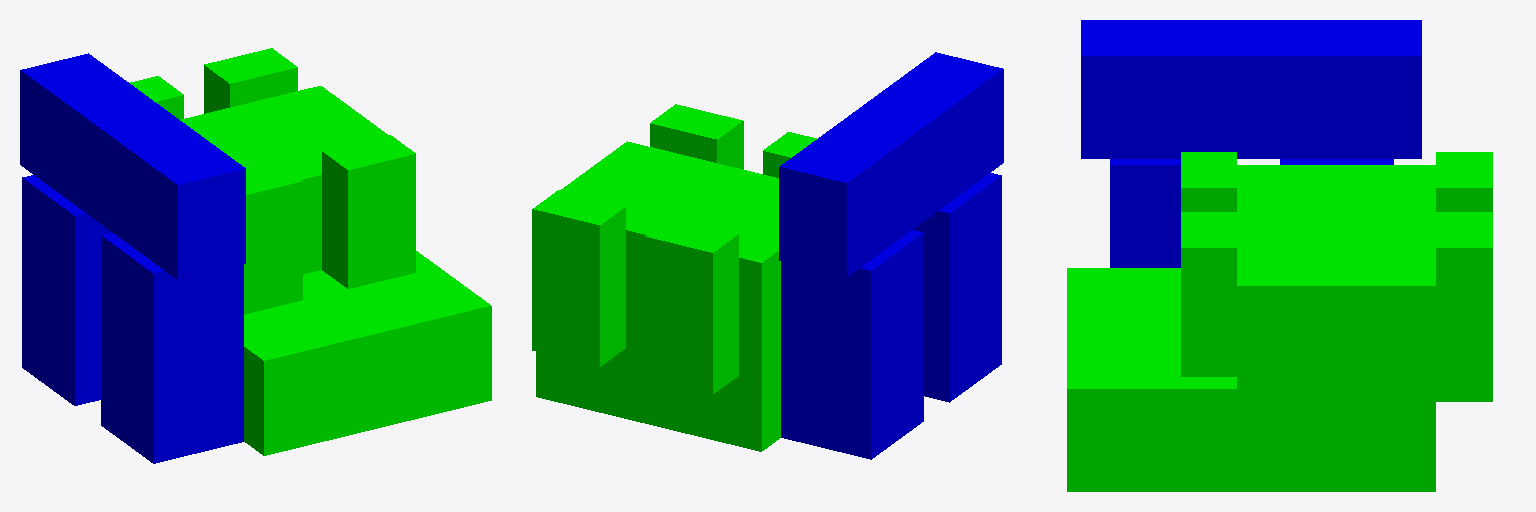
robot.urdf — robot:
<robot name = "robot">
    <link name="root">
        <inertial>
            <origin xyz="0.0 0.0 1.5" rpy="0 0 0"/>
            <mass value="1" />
            <inertia ixx="100" ixy="0" ixz="0" iyy="100" iyz="0" izz="100" />
        </inertial>
        <visual>
            <origin xyz="0.0 0.0 1.5" rpy="0 0 0"/>
            <geometry>
                <box size="0 0 0.0001" />
            </geometry>
            <material name="Green">
                <color rgba="0 1.0 0.0 1.0"/>
            </material>
        </visual>
        <collision>
            <origin xyz="0.0 0.0 1.5" rpy="0 0 0"/>
            <geometry>
                <box size="0 0 0.0001" />
            </geometry>
        </collision>
    </link>
    <joint name="root_000" type="revolute">
       <parent link="root"/>
       <child  link="000"/>
       <origin rpy="0 0 0" xyz="0.0 0.0 1.5" />
     <axis xyz="1 0 0"/>
       <limit effort="0.0" lower="-3.14159" upper="3.14159" velocity="0.0"/>
    </joint>
    <link name="000">
        <inertial>
            <origin xyz="0.0 0.3 0.0" rpy="0 0 0"/>
            <mass value="1" />
            <inertia ixx="100" ixy="0" ixz="0" iyy="100" iyz="0" izz="100" />
        </inertial>
        <visual>
            <origin xyz="0.0 0.3 0.0" rpy="0 0 0"/>
            <geometry>
                <box size="0.3 0.6 0.4" />
            </geometry>
            <material name="Blue">
                <color rgba="0 0.0 1.0 1.0"/>
            </material>
        </visual>
        <collision>
            <origin xyz="0.0 0.3 0.0" rpy="0 0 0"/>
            <geometry>
                <box size="0.3 0.6 0.4" />
            </geometry>
        </collision>
    </link>
    <joint name="000_010" type="revolute">
       <parent link="000"/>
       <child  link="010"/>
       <origin rpy="0 0 0" xyz="0.0 0.6 -0.0" />
     <axis xyz="0 1 0"/>
       <limit effort="0.0" lower="-3.14159" upper="3.14159" velocity="0.0"/>
    </joint>
    <link name="010">
        <inertial>
            <origin xyz="0.0 0.3 -0.0" rpy="0 0 0"/>
            <mass value="1" />
            <inertia ixx="100" ixy="0" ixz="0" iyy="100" iyz="0" izz="100" />
        </inertial>
        <visual>
            <origin xyz="0.0 0.3 -0.0" rpy="0 0 0"/>
            <geometry>
                <box size="0.3 0.6 0.4" />
            </geometry>
            <material name="Blue">
                <color rgba="0 0.0 1.0 1.0"/>
            </material>
        </visual>
        <collision>
            <origin xyz="0.0 0.3 -0.0" rpy="0 0 0"/>
            <geometry>
                <box size="0.3 0.6 0.4" />
            </geometry>
        </collision>
    </link>
    <joint name="010_010-100" type="revolute">
       <parent link="010"/>
       <child  link="010-100"/>
       <origin rpy="0 0 0" xyz="0.0 0.3 -0.2" />
     <axis xyz="0 0 1"/>
       <limit effort="0.0" lower="-3.14159" upper="3.14159" velocity="0.0"/>
    </joint>
    <link name="010-100">
        <inertial>
            <origin xyz="0.0 0.0 -0.2" rpy="0 0 0"/>
            <mass value="1" />
            <inertia ixx="100" ixy="0" ixz="0" iyy="100" iyz="0" izz="100" />
        </inertial>
        <visual>
            <origin xyz="0.0 0.0 -0.2" rpy="0 0 0"/>
            <geometry>
                <box size="0.4 0.4 0.4" />
            </geometry>
            <material name="Blue">
                <color rgba="0 0.0 1.0 1.0"/>
            </material>
        </visual>
        <collision>
            <origin xyz="0.0 0.0 -0.2" rpy="0 0 0"/>
            <geometry>
                <box size="0.4 0.4 0.4" />
            </geometry>
        </collision>
    </link>
    <joint name="010-100_010-110" type="revolute">
       <parent link="010-100"/>
       <child  link="010-110"/>
       <origin rpy="0 0 0" xyz="0.0 0.0 -0.4" />
     <axis xyz="0 0 1"/>
       <limit effort="0.0" lower="-3.14159" upper="3.14159" velocity="0.0"/>
    </joint>
    <link name="010-110">
        <inertial>
            <origin xyz="0.0 0.0 -0.2" rpy="0 0 0"/>
            <mass value="1" />
            <inertia ixx="100" ixy="0" ixz="0" iyy="100" iyz="0" izz="100" />
        </inertial>
        <visual>
            <origin xyz="0.0 0.0 -0.2" rpy="0 0 0"/>
            <geometry>
                <box size="0.4 0.4 0.4" />
            </geometry>
            <material name="Blue">
                <color rgba="0 0.0 1.0 1.0"/>
            </material>
        </visual>
        <collision>
            <origin xyz="0.0 0.0 -0.2" rpy="0 0 0"/>
            <geometry>
                <box size="0.4 0.4 0.4" />
            </geometry>
        </collision>
    </link>
    <joint name="010-110_010-110-200" type="revolute">
       <parent link="010-110"/>
       <child  link="010-110-200"/>
       <origin rpy="0 0 0" xyz="0.2 0.0 -0.2" />
     <axis xyz="1 0 0"/>
       <limit effort="0.0" lower="-3.14159" upper="3.14159" velocity="0.0"/>
    </joint>
    <link name="010-110-200">
        <inertial>
            <origin xyz="0.25 0.0 -0.0" rpy="0 0 0"/>
            <mass value="1" />
            <inertia ixx="100" ixy="0" ixz="0" iyy="100" iyz="0" izz="100" />
        </inertial>
        <visual>
            <origin xyz="0.25 0.0 -0.0" rpy="0 0 0"/>
            <geometry>
                <box size="0.5 0.7 0.4" />
            </geometry>
            <material name="Green">
                <color rgba="0 1.0 0.0 1.0"/>
            </material>
        </visual>
        <collision>
            <origin xyz="0.25 0.0 -0.0" rpy="0 0 0"/>
            <geometry>
                <box size="0.5 0.7 0.4" />
            </geometry>
        </collision>
    </link>
    <joint name="010-110-200_010-110-210" type="revolute">
       <parent link="010-110-200"/>
       <child  link="010-110-210"/>
       <origin rpy="0 0 0" xyz="0.5 0.0 -0.0" />
     <axis xyz="1 0 0"/>
       <limit effort="0.0" lower="-3.14159" upper="3.14159" velocity="0.0"/>
    </joint>
    <link name="010-110-210">
        <inertial>
            <origin xyz="0.25 0.0 -0.0" rpy="0 0 0"/>
            <mass value="1" />
            <inertia ixx="100" ixy="0" ixz="0" iyy="100" iyz="0" izz="100" />
        </inertial>
        <visual>
            <origin xyz="0.25 0.0 -0.0" rpy="0 0 0"/>
            <geometry>
                <box size="0.5 0.7 0.4" />
            </geometry>
            <material name="Green">
                <color rgba="0 1.0 0.0 1.0"/>
            </material>
        </visual>
        <collision>
            <origin xyz="0.25 0.0 -0.0" rpy="0 0 0"/>
            <geometry>
                <box size="0.5 0.7 0.4" />
            </geometry>
        </collision>
    </link>
    <joint name="010-100_010-100-200" type="revolute">
       <parent link="010-100"/>
       <child  link="010-100-200"/>
       <origin rpy="0 0 0" xyz="0.2 0.0 -0.2" />
     <axis xyz="1 0 0"/>
       <limit effort="0.0" lower="-3.14159" upper="3.14159" velocity="0.0"/>
    </joint>
    <link name="010-100-200">
        <inertial>
            <origin xyz="0.25 0.0 -0.0" rpy="0 0 0"/>
            <mass value="1" />
            <inertia ixx="100" ixy="0" ixz="0" iyy="100" iyz="0" izz="100" />
        </inertial>
        <visual>
            <origin xyz="0.25 0.0 -0.0" rpy="0 0 0"/>
            <geometry>
                <box size="0.5 0.7 0.4" />
            </geometry>
            <material name="Green">
                <color rgba="0 1.0 0.0 1.0"/>
            </material>
        </visual>
        <collision>
            <origin xyz="0.25 0.0 -0.0" rpy="0 0 0"/>
            <geometry>
                <box size="0.5 0.7 0.4" />
            </geometry>
        </collision>
    </link>
    <joint name="010-100-200_010-100-210" type="revolute">
       <parent link="010-100-200"/>
       <child  link="010-100-210"/>
       <origin rpy="0 0 0" xyz="0.5 0.0 -0.0" />
     <axis xyz="1 0 0"/>
       <limit effort="0.0" lower="-3.14159" upper="3.14159" velocity="0.0"/>
    </joint>
    <link name="010-100-210">
        <inertial>
            <origin xyz="0.25 0.0 -0.0" rpy="0 0 0"/>
            <mass value="1" />
            <inertia ixx="100" ixy="0" ixz="0" iyy="100" iyz="0" izz="100" />
        </inertial>
        <visual>
            <origin xyz="0.25 0.0 -0.0" rpy="0 0 0"/>
            <geometry>
                <box size="0.5 0.7 0.4" />
            </geometry>
            <material name="Green">
                <color rgba="0 1.0 0.0 1.0"/>
            </material>
        </visual>
        <collision>
            <origin xyz="0.25 0.0 -0.0" rpy="0 0 0"/>
            <geometry>
                <box size="0.5 0.7 0.4" />
            </geometry>
        </collision>
    </link>
    <joint name="010-100-210_010-100-210-300" type="revolute">
       <parent link="010-100-210"/>
       <child  link="010-100-210-300"/>
       <origin rpy="0 0 0" xyz="0.25 0.35 -0.0" />
     <axis xyz="0 1 0"/>
       <limit effort="0.0" lower="-3.14159" upper="3.14159" velocity="0.0"/>
    </joint>
    <link name="010-100-210-300">
        <inertial>
            <origin xyz="0.0 0.05 -0.0" rpy="0 0 0"/>
            <mass value="1" />
            <inertia ixx="100" ixy="0" ixz="0" iyy="100" iyz="0" izz="100" />
        </inertial>
        <visual>
            <origin xyz="0.0 0.05 -0.0" rpy="0 0 0"/>
            <geometry>
                <box size="0.3 0.1 0.6" />
            </geometry>
            <material name="Green">
                <color rgba="0 1.0 0.0 1.0"/>
            </material>
        </visual>
        <collision>
            <origin xyz="0.0 0.05 -0.0" rpy="0 0 0"/>
            <geometry>
                <box size="0.3 0.1 0.6" />
            </geometry>
        </collision>
    </link>
    <joint name="010-100-210-300_010-100-210-310" type="revolute">
       <parent link="010-100-210-300"/>
       <child  link="010-100-210-310"/>
       <origin rpy="0 0 0" xyz="0.0 0.1 -0.0" />
     <axis xyz="0 1 0"/>
       <limit effort="0.0" lower="-3.14159" upper="3.14159" velocity="0.0"/>
    </joint>
    <link name="010-100-210-310">
        <inertial>
            <origin xyz="0.0 0.05 -0.0" rpy="0 0 0"/>
            <mass value="1" />
            <inertia ixx="100" ixy="0" ixz="0" iyy="100" iyz="0" izz="100" />
        </inertial>
        <visual>
            <origin xyz="0.0 0.05 -0.0" rpy="0 0 0"/>
            <geometry>
                <box size="0.3 0.1 0.6" />
            </geometry>
            <material name="Green">
                <color rgba="0 1.0 0.0 1.0"/>
            </material>
        </visual>
        <collision>
            <origin xyz="0.0 0.05 -0.0" rpy="0 0 0"/>
            <geometry>
                <box size="0.3 0.1 0.6" />
            </geometry>
        </collision>
    </link>
    <joint name="010-100-210_010-100-210-301" type="revolute">
       <parent link="010-100-210"/>
       <child  link="010-100-210-301"/>
       <origin rpy="0 0 0" xyz="0.25 -0.35 -0.0" />
     <axis xyz="0 1 0"/>
       <limit effort="0.0" lower="-3.14159" upper="3.14159" velocity="0.0"/>
    </joint>
    <link name="010-100-210-301">
        <inertial>
            <origin xyz="0.0 -0.05 -0.0" rpy="0 0 0"/>
            <mass value="1" />
            <inertia ixx="100" ixy="0" ixz="0" iyy="100" iyz="0" izz="100" />
        </inertial>
        <visual>
            <origin xyz="0.0 -0.05 -0.0" rpy="0 0 0"/>
            <geometry>
                <box size="0.3 0.1 0.6" />
            </geometry>
            <material name="Green">
                <color rgba="0 1.0 0.0 1.0"/>
            </material>
        </visual>
        <collision>
            <origin xyz="0.0 -0.05 -0.0" rpy="0 0 0"/>
            <geometry>
                <box size="0.3 0.1 0.6" />
            </geometry>
        </collision>
    </link>
    <joint name="010-100-210-301_010-100-210-311" type="revolute">
       <parent link="010-100-210-301"/>
       <child  link="010-100-210-311"/>
       <origin rpy="0 0 0" xyz="0.0 -0.1 -0.0" />
     <axis xyz="0 1 0"/>
       <limit effort="0.0" lower="-3.14159" upper="3.14159" velocity="0.0"/>
    </joint>
    <link name="010-100-210-311">
        <inertial>
            <origin xyz="0.0 -0.05 -0.0" rpy="0 0 0"/>
            <mass value="1" />
            <inertia ixx="100" ixy="0" ixz="0" iyy="100" iyz="0" izz="100" />
        </inertial>
        <visual>
            <origin xyz="0.0 -0.05 -0.0" rpy="0 0 0"/>
            <geometry>
                <box size="0.3 0.1 0.6" />
            </geometry>
            <material name="Green">
                <color rgba="0 1.0 0.0 1.0"/>
            </material>
        </visual>
        <collision>
            <origin xyz="0.0 -0.05 -0.0" rpy="0 0 0"/>
            <geometry>
                <box size="0.3 0.1 0.6" />
            </geometry>
        </collision>
    </link>
    <joint name="010-100-200_010-100-200-300" type="revolute">
       <parent link="010-100-200"/>
       <child  link="010-100-200-300"/>
       <origin rpy="0 0 0" xyz="0.25 0.35 -0.0" />
     <axis xyz="0 1 0"/>
       <limit effort="0.0" lower="-3.14159" upper="3.14159" velocity="0.0"/>
    </joint>
    <link name="010-100-200-300">
        <inertial>
            <origin xyz="0.0 0.05 -0.0" rpy="0 0 0"/>
            <mass value="1" />
            <inertia ixx="100" ixy="0" ixz="0" iyy="100" iyz="0" izz="100" />
        </inertial>
        <visual>
            <origin xyz="0.0 0.05 -0.0" rpy="0 0 0"/>
            <geometry>
                <box size="0.3 0.1 0.6" />
            </geometry>
            <material name="Green">
                <color rgba="0 1.0 0.0 1.0"/>
            </material>
        </visual>
        <collision>
            <origin xyz="0.0 0.05 -0.0" rpy="0 0 0"/>
            <geometry>
                <box size="0.3 0.1 0.6" />
            </geometry>
        </collision>
    </link>
    <joint name="010-100-200-300_010-100-200-310" type="revolute">
       <parent link="010-100-200-300"/>
       <child  link="010-100-200-310"/>
       <origin rpy="0 0 0" xyz="0.0 0.1 -0.0" />
     <axis xyz="0 1 0"/>
       <limit effort="0.0" lower="-3.14159" upper="3.14159" velocity="0.0"/>
    </joint>
    <link name="010-100-200-310">
        <inertial>
            <origin xyz="0.0 0.05 -0.0" rpy="0 0 0"/>
            <mass value="1" />
            <inertia ixx="100" ixy="0" ixz="0" iyy="100" iyz="0" izz="100" />
        </inertial>
        <visual>
            <origin xyz="0.0 0.05 -0.0" rpy="0 0 0"/>
            <geometry>
                <box size="0.3 0.1 0.6" />
            </geometry>
            <material name="Green">
                <color rgba="0 1.0 0.0 1.0"/>
            </material>
        </visual>
        <collision>
            <origin xyz="0.0 0.05 -0.0" rpy="0 0 0"/>
            <geometry>
                <box size="0.3 0.1 0.6" />
            </geometry>
        </collision>
    </link>
    <joint name="010-100-200_010-100-200-301" type="revolute">
       <parent link="010-100-200"/>
       <child  link="010-100-200-301"/>
       <origin rpy="0 0 0" xyz="0.25 -0.35 -0.0" />
     <axis xyz="0 1 0"/>
       <limit effort="0.0" lower="-3.14159" upper="3.14159" velocity="0.0"/>
    </joint>
    <link name="010-100-200-301">
        <inertial>
            <origin xyz="0.0 -0.05 -0.0" rpy="0 0 0"/>
            <mass value="1" />
            <inertia ixx="100" ixy="0" ixz="0" iyy="100" iyz="0" izz="100" />
        </inertial>
        <visual>
            <origin xyz="0.0 -0.05 -0.0" rpy="0 0 0"/>
            <geometry>
                <box size="0.3 0.1 0.6" />
            </geometry>
            <material name="Green">
                <color rgba="0 1.0 0.0 1.0"/>
            </material>
        </visual>
        <collision>
            <origin xyz="0.0 -0.05 -0.0" rpy="0 0 0"/>
            <geometry>
                <box size="0.3 0.1 0.6" />
            </geometry>
        </collision>
    </link>
    <joint name="010-100-200-301_010-100-200-311" type="revolute">
       <parent link="010-100-200-301"/>
       <child  link="010-100-200-311"/>
       <origin rpy="0 0 0" xyz="0.0 -0.1 -0.0" />
     <axis xyz="0 1 0"/>
       <limit effort="0.0" lower="-3.14159" upper="3.14159" velocity="0.0"/>
    </joint>
    <link name="010-100-200-311">
        <inertial>
            <origin xyz="0.0 -0.05 -0.0" rpy="0 0 0"/>
            <mass value="1" />
            <inertia ixx="100" ixy="0" ixz="0" iyy="100" iyz="0" izz="100" />
        </inertial>
        <visual>
            <origin xyz="0.0 -0.05 -0.0" rpy="0 0 0"/>
            <geometry>
                <box size="0.3 0.1 0.6" />
            </geometry>
            <material name="Green">
                <color rgba="0 1.0 0.0 1.0"/>
            </material>
        </visual>
        <collision>
            <origin xyz="0.0 -0.05 -0.0" rpy="0 0 0"/>
            <geometry>
                <box size="0.3 0.1 0.6" />
            </geometry>
        </collision>
    </link>
    <joint name="000_000-100" type="revolute">
       <parent link="000"/>
       <child  link="000-100"/>
       <origin rpy="0 0 0" xyz="0.0 0.3 -0.2" />
     <axis xyz="0 0 1"/>
       <limit effort="0.0" lower="-3.14159" upper="3.14159" velocity="0.0"/>
    </joint>
    <link name="000-100">
        <inertial>
            <origin xyz="0.0 0.0 -0.2" rpy="0 0 0"/>
            <mass value="1" />
            <inertia ixx="100" ixy="0" ixz="0" iyy="100" iyz="0" izz="100" />
        </inertial>
        <visual>
            <origin xyz="0.0 0.0 -0.2" rpy="0 0 0"/>
            <geometry>
                <box size="0.4 0.4 0.4" />
            </geometry>
            <material name="Blue">
                <color rgba="0 0.0 1.0 1.0"/>
            </material>
        </visual>
        <collision>
            <origin xyz="0.0 0.0 -0.2" rpy="0 0 0"/>
            <geometry>
                <box size="0.4 0.4 0.4" />
            </geometry>
        </collision>
    </link>
    <joint name="000-100_000-110" type="revolute">
       <parent link="000-100"/>
       <child  link="000-110"/>
       <origin rpy="0 0 0" xyz="0.0 0.0 -0.4" />
     <axis xyz="0 0 1"/>
       <limit effort="0.0" lower="-3.14159" upper="3.14159" velocity="0.0"/>
    </joint>
    <link name="000-110">
        <inertial>
            <origin xyz="0.0 0.0 -0.2" rpy="0 0 0"/>
            <mass value="1" />
            <inertia ixx="100" ixy="0" ixz="0" iyy="100" iyz="0" izz="100" />
        </inertial>
        <visual>
            <origin xyz="0.0 0.0 -0.2" rpy="0 0 0"/>
            <geometry>
                <box size="0.4 0.4 0.4" />
            </geometry>
            <material name="Blue">
                <color rgba="0 0.0 1.0 1.0"/>
            </material>
        </visual>
        <collision>
            <origin xyz="0.0 0.0 -0.2" rpy="0 0 0"/>
            <geometry>
                <box size="0.4 0.4 0.4" />
            </geometry>
        </collision>
    </link>
    <joint name="000-110_000-110-200" type="revolute">
       <parent link="000-110"/>
       <child  link="000-110-200"/>
       <origin rpy="0 0 0" xyz="0.2 0.0 -0.2" />
     <axis xyz="1 0 0"/>
       <limit effort="0.0" lower="-3.14159" upper="3.14159" velocity="0.0"/>
    </joint>
    <link name="000-110-200">
        <inertial>
            <origin xyz="0.25 0.0 -0.0" rpy="0 0 0"/>
            <mass value="1" />
            <inertia ixx="100" ixy="0" ixz="0" iyy="100" iyz="0" izz="100" />
        </inertial>
        <visual>
            <origin xyz="0.25 0.0 -0.0" rpy="0 0 0"/>
            <geometry>
                <box size="0.5 0.7 0.4" />
            </geometry>
            <material name="Green">
                <color rgba="0 1.0 0.0 1.0"/>
            </material>
        </visual>
        <collision>
            <origin xyz="0.25 0.0 -0.0" rpy="0 0 0"/>
            <geometry>
                <box size="0.5 0.7 0.4" />
            </geometry>
        </collision>
    </link>
    <joint name="000-110-200_000-110-210" type="revolute">
       <parent link="000-110-200"/>
       <child  link="000-110-210"/>
       <origin rpy="0 0 0" xyz="0.5 0.0 -0.0" />
     <axis xyz="1 0 0"/>
       <limit effort="0.0" lower="-3.14159" upper="3.14159" velocity="0.0"/>
    </joint>
    <link name="000-110-210">
        <inertial>
            <origin xyz="0.25 0.0 -0.0" rpy="0 0 0"/>
            <mass value="1" />
            <inertia ixx="100" ixy="0" ixz="0" iyy="100" iyz="0" izz="100" />
        </inertial>
        <visual>
            <origin xyz="0.25 0.0 -0.0" rpy="0 0 0"/>
            <geometry>
                <box size="0.5 0.7 0.4" />
            </geometry>
            <material name="Green">
                <color rgba="0 1.0 0.0 1.0"/>
            </material>
        </visual>
        <collision>
            <origin xyz="0.25 0.0 -0.0" rpy="0 0 0"/>
            <geometry>
                <box size="0.5 0.7 0.4" />
            </geometry>
        </collision>
    </link>
</robot>

--- Facts derived from the render (not from the file) ---
The picture shows the robot from 3 angles, left to right: view 1: azimuth 30°, elevation 25°; view 2: azimuth 150°, elevation 25°; view 3: azimuth 270°, elevation 25°; orthographic projection.
Model robot with 21 links and 20 joints (20 revolute), rooted at root, posed all joints at 0.
Links seen in each view (by area): view 1: [phone redacted] (×10), 000, 000-110, 000-100, 010, 010-100, 010-110; view 2: [phone redacted] (×11), 010, 010-110, 010-100, 000, 000-100, 000-110; view 3: [phone redacted] (×13), 010, 000, 000-100, 010-100.
Boxes of the visible links, <box> form: [phone redacted] (×10): <box>142,48,491,455</box>; 000: <box>99,111,245,279</box>; 000-110: <box>101,331,243,463</box>; 000-100: <box>101,233,243,368</box>; 010: <box>20,53,166,221</box>; 010-100: <box>22,175,111,310</box>; 010-110: <box>22,273,100,405</box>; [phone redacted] (×11): <box>532,104,803,451</box>; 010: <box>779,110,924,276</box>; 010-110: <box>781,327,923,459</box>; 010-100: <box>781,230,923,364</box>; 000: <box>858,52,1003,219</box>; 000-100: <box>913,173,1001,307</box>; 000-110: <box>924,270,1001,402</box>; [phone redacted] (×13): <box>1067,152,1492,491</box>; 010: <box>1252,20,1421,158</box>; 000: <box>1081,20,1251,158</box>; 000-100: <box>1110,159,1180,267</box>; 010-100: <box>1280,159,1393,164</box>.
Size in the robot's own frame: 1.4 by 1.5 by 1.2 metres.
Geometry: primitives only (box / cylinder / sphere), no mesh files.
